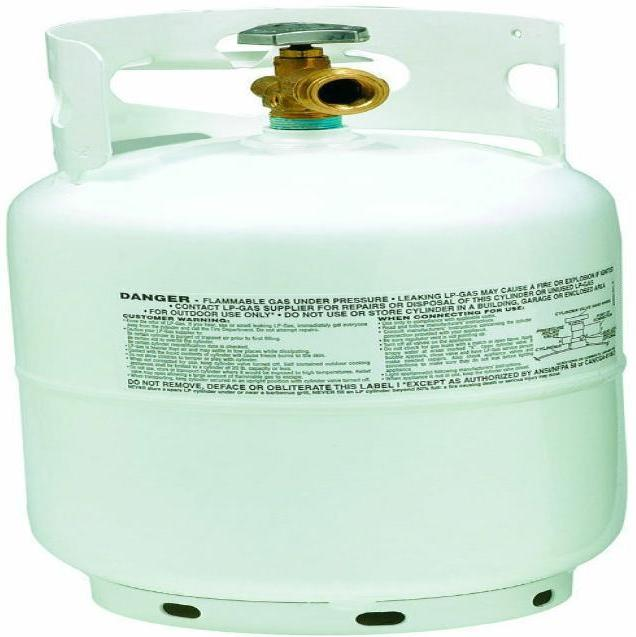cylinder: (1, 0, 636, 637)
